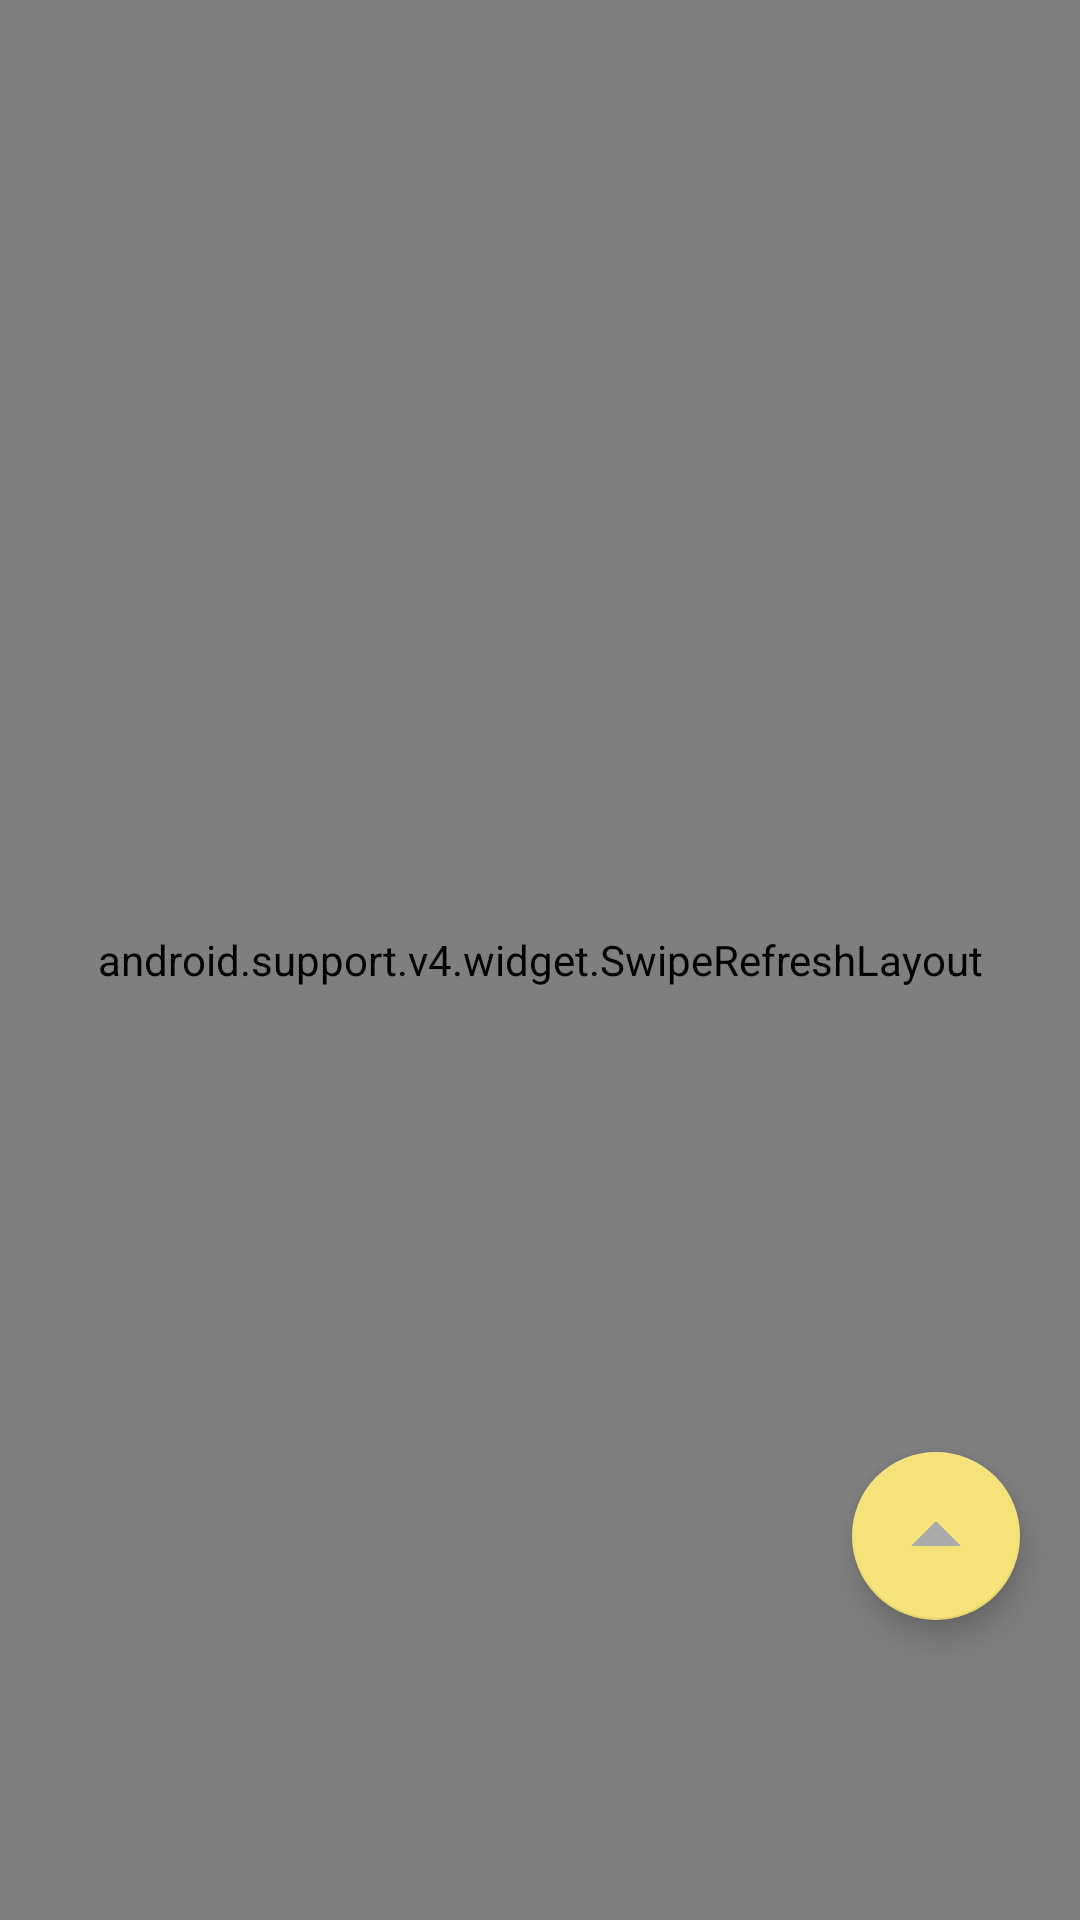

Screen size 1080×1920. Icon name, then its center in pixels as [x,y]:
arrow drop up: [936,1536]
